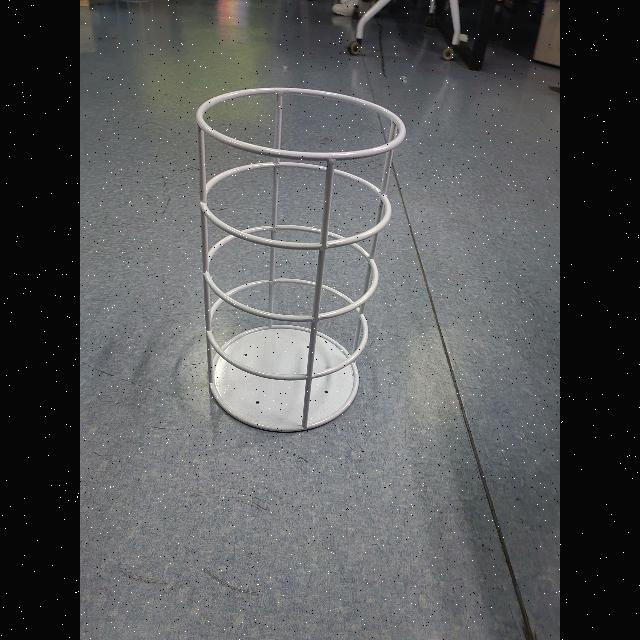S: (182, 79, 414, 441)
